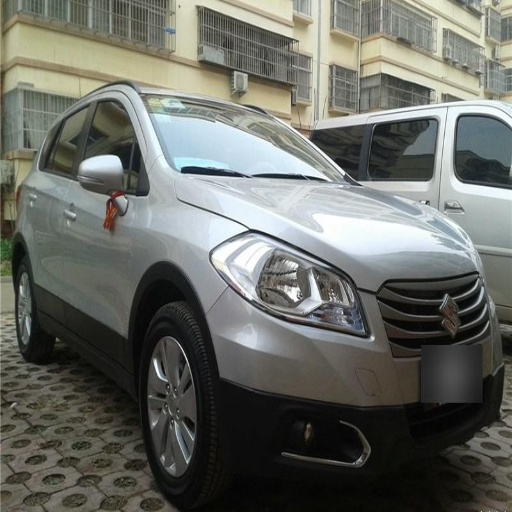front_bumper: (205, 280, 506, 472)
front_right_door: (59, 88, 143, 357)
front_right_light: (212, 227, 375, 337)
